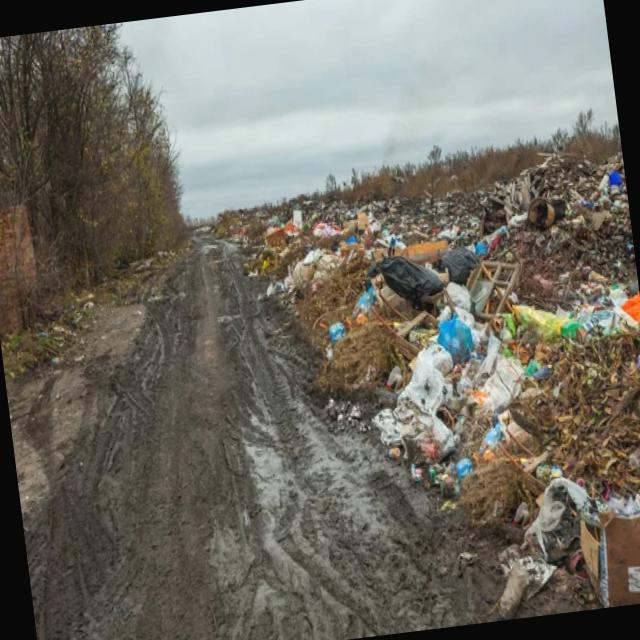garbage: (276, 133, 640, 593)
